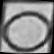no answer: (1, 7, 52, 54)
